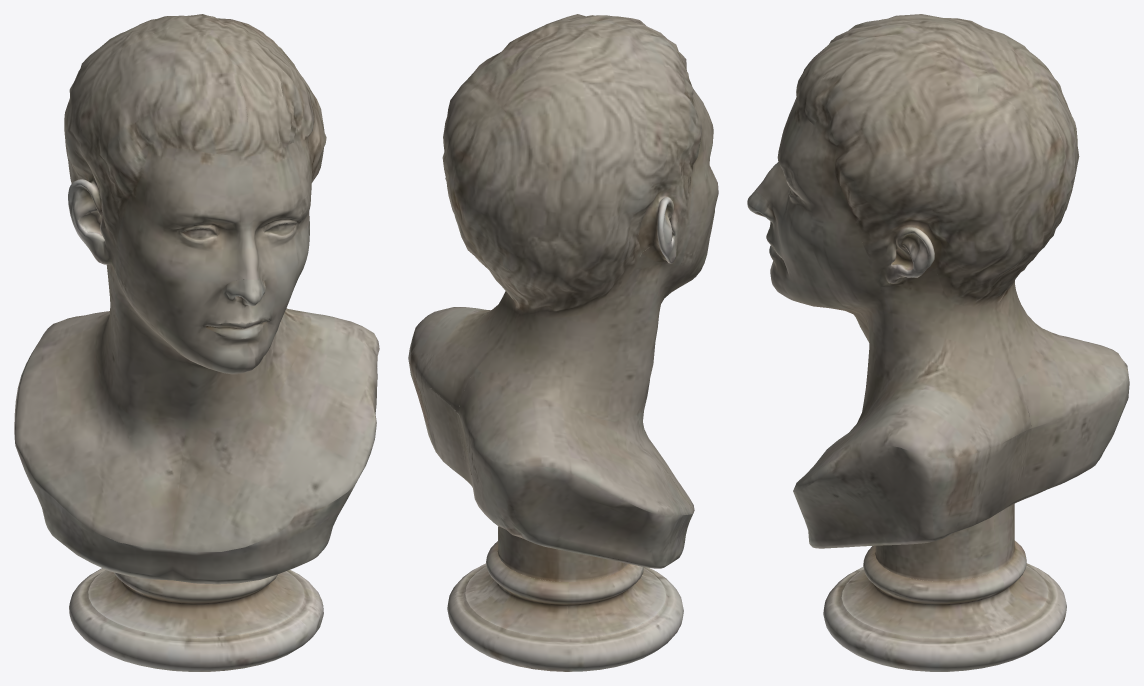
Rendered from bust.glb.
3 renders of one model, left to right at view 1: azimuth 30°, elevation 25°; view 2: azimuth 150°, elevation 25°; view 3: azimuth 270°, elevation 25°, orthographic. The views are drawn at different scales.
Visible parts, largest first — view 1: marble_bust_01; view 2: marble_bust_01; view 3: marble_bust_01.
Part boxes in pixels (x1,y1,x2,y2): marble_bust_01: [14, 14, 379, 671]; marble_bust_01: [408, 14, 718, 671]; marble_bust_01: [747, 14, 1129, 671].
Bounding box in the file's own units: 0.2717 × 0.5149 × 0.2997.
Materials: 1 (1 with a texture image).
